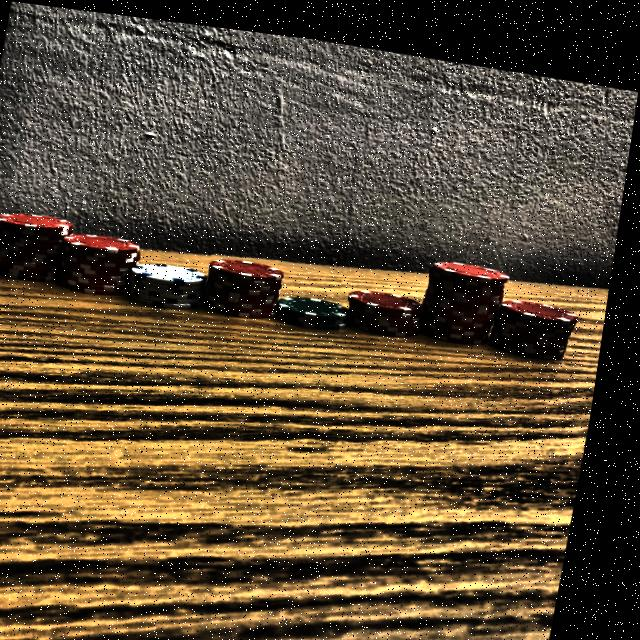Chip: (0, 194, 95, 293), (430, 243, 521, 335), (495, 275, 589, 353), (66, 221, 155, 301), (208, 243, 294, 319), (340, 271, 442, 335), (128, 248, 221, 312), (277, 273, 360, 330)
